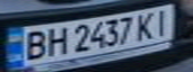2: (69, 21, 93, 53)
3: (103, 17, 124, 47)
4: (87, 19, 109, 51)
7: (115, 14, 139, 44)
B: (18, 28, 51, 62)
H: (42, 25, 69, 56)
I: (148, 7, 178, 36)
K: (133, 9, 160, 40)
